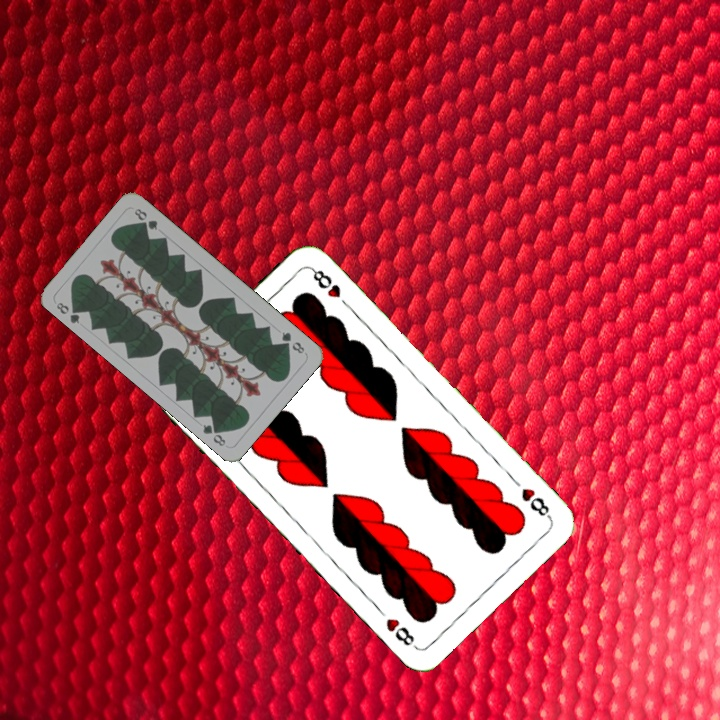G8: (52, 298, 84, 327), (277, 327, 307, 356)
H8: (517, 484, 554, 521)
